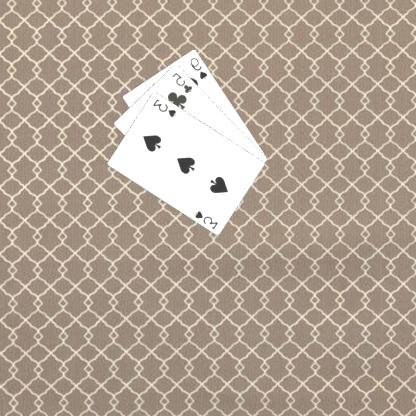3S: (152, 96, 179, 118), (194, 208, 221, 230)
5C: (171, 69, 196, 95)
9S: (190, 54, 210, 80)
